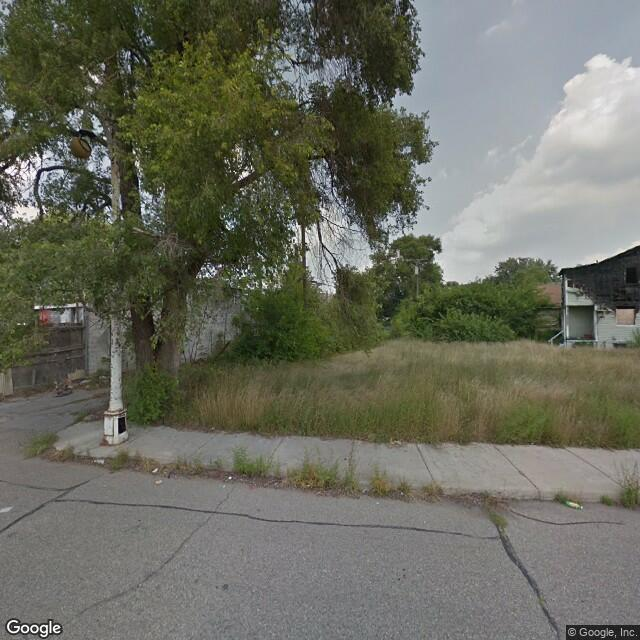litter: (562, 497, 585, 512), (148, 463, 161, 478), (222, 475, 234, 483), (93, 458, 108, 464)
